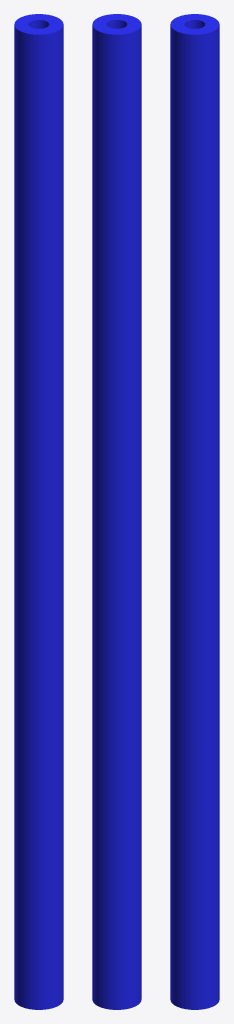
Rendered from noodle.glb.
3 views of the same model, side by side, from view 1: azimuth 90°, elevation 25°; view 2: azimuth 150°, elevation 25°; view 3: azimuth 270°, elevation 25° (orthographic).
Parts seen in each view (by area): view 1: bluenoodle; view 2: bluenoodle; view 3: bluenoodle.
Boxes of the visible parts, x1=… form: bluenoodle: x1=14, y1=14, x2=63, y2=1009; bluenoodle: x1=92, y1=14, x2=141, y2=1009; bluenoodle: x1=170, y1=14, x2=219, y2=1009.
Size of the model in its own units: 0.065 by 1.42 by 0.065.
